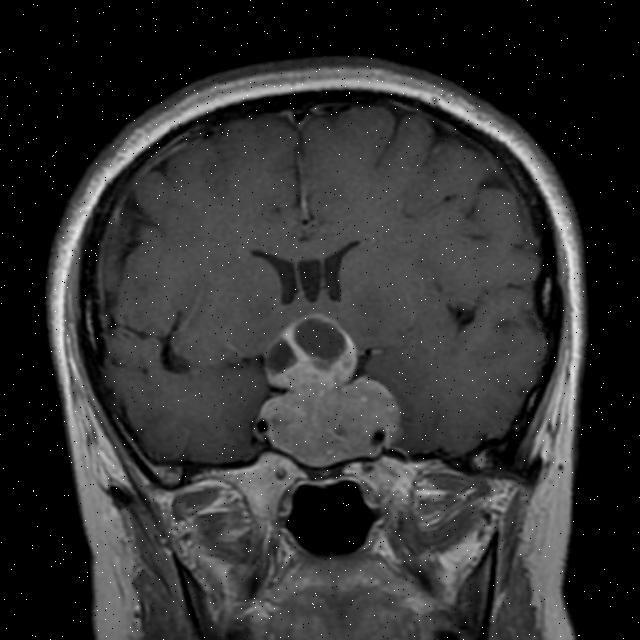Pituitary: (257, 304, 380, 477)
